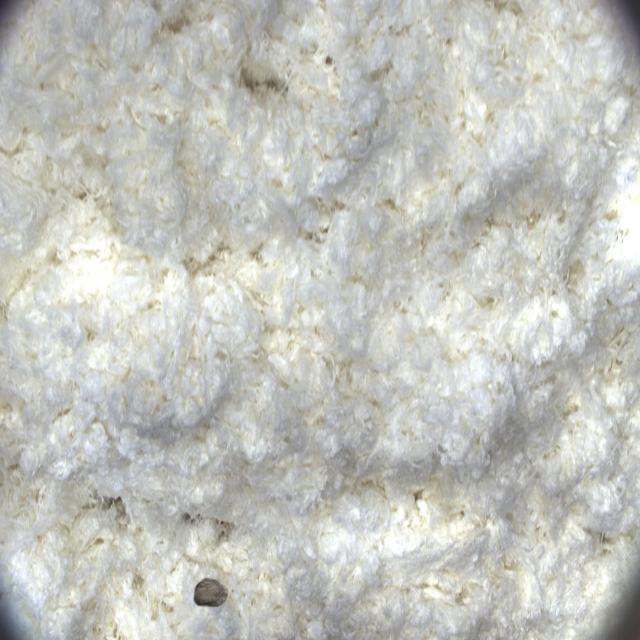dust: (176, 529, 255, 640)
